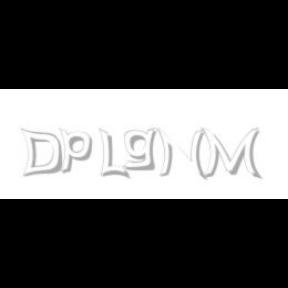D: (20, 128, 62, 178)
L: (99, 128, 127, 180)
M: (200, 128, 260, 180)
N: (156, 128, 206, 180)
g: (124, 128, 161, 171)
p: (60, 128, 96, 174)
